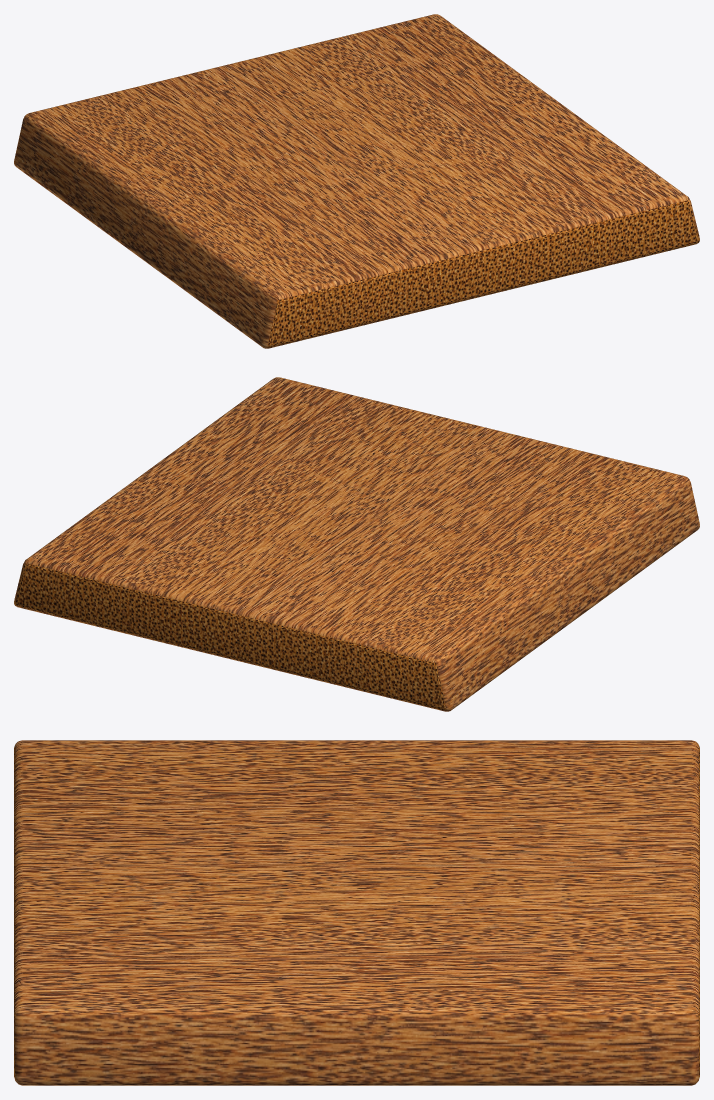
File: Coconut wood composi.fbx
3 renders of one model, top to bottom at view 1: azimuth 30°, elevation 25°; view 2: azimuth 150°, elevation 25°; view 3: azimuth 270°, elevation 25°, orthographic. The views are drawn at different scales.
Parts seen in each view (by area): view 1: Coconut wood composite board _Baked; view 2: Coconut wood composite board _Baked; view 3: Coconut wood composite board _Baked.
Part boxes in pixels (box(x1,y1,x2,y2)): Coconut wood composite board _Baked: box(14, 14, 699, 348); Coconut wood composite board _Baked: box(14, 377, 699, 711); Coconut wood composite board _Baked: box(14, 740, 699, 1085).
Size of the model in its own units: 199 by 22.15 by 200.
Materials: 1 (1 with a texture image).
